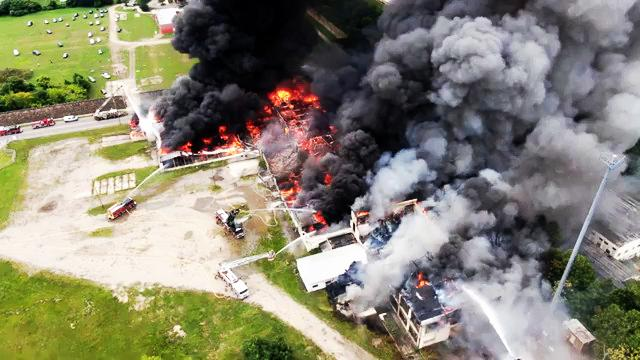fire: (261, 85, 306, 127)
smoke: (374, 0, 640, 109), (175, 0, 313, 86), (491, 113, 629, 199), (381, 112, 482, 214), (318, 39, 382, 138), (152, 89, 250, 136), (326, 139, 380, 195)
